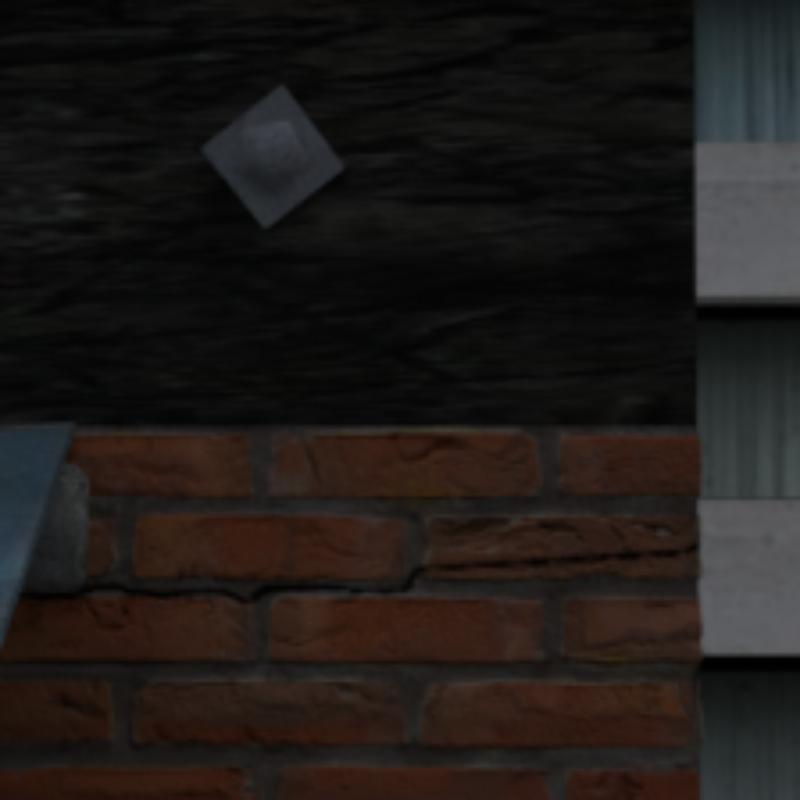crack: (464, 551, 670, 565), (96, 582, 213, 596), (400, 565, 464, 589), (219, 586, 278, 600), (18, 589, 86, 596), (278, 586, 400, 589), (670, 543, 693, 551)
